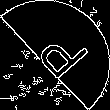P_SW: (23, 24, 87, 86)
